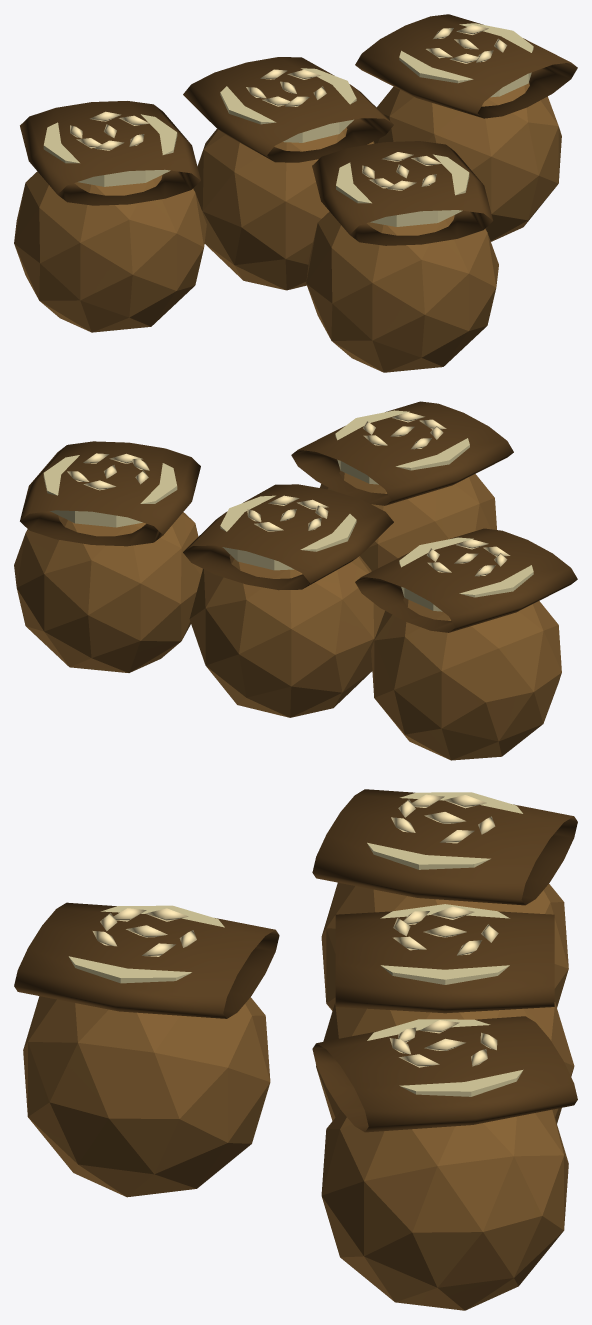
File: pile-milledRice-4.obj
3 views of the same model, one above another, from view 1: azimuth 30°, elevation 25°; view 2: azimuth 150°, elevation 25°; view 3: azimuth 270°, elevation 25° (orthographic). The views are drawn at different scales.
Parts seen in each view (by area): view 1: pile-milledRice-4; view 2: pile-milledRice-4; view 3: pile-milledRice-4.
Part boxes in pixels (x1=…): pile-milledRice-4: x1=14, y1=14, x2=577, y2=372; pile-milledRice-4: x1=14, y1=401, x2=577, y2=760; pile-milledRice-4: x1=14, y1=789, x2=577, y2=1310.
Size of the model in its own units: 0.7915 by 0.2915 by 0.567.
Materials: 1 (1 with a texture image).
